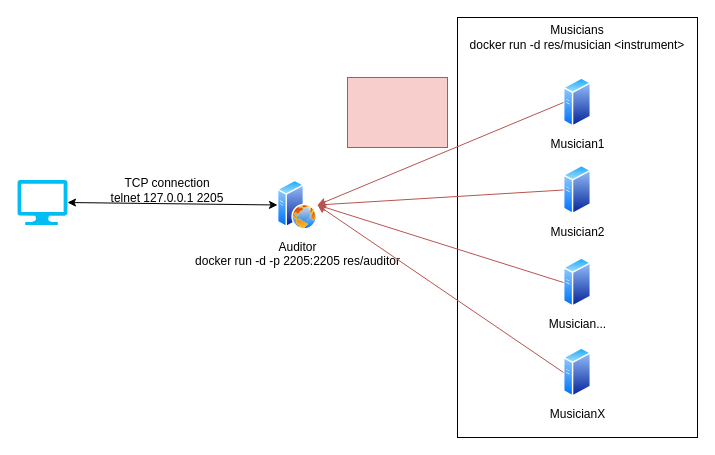
Some shapes in this 715 by 455 pixel diagram are drawn without their labels. The centre of each missing label's shape, as x and y in pixels:
Client: pixel 42 202
Multicast addr: 239.0.0.1 port: 1234 protocol: udp: pixel 397 112
